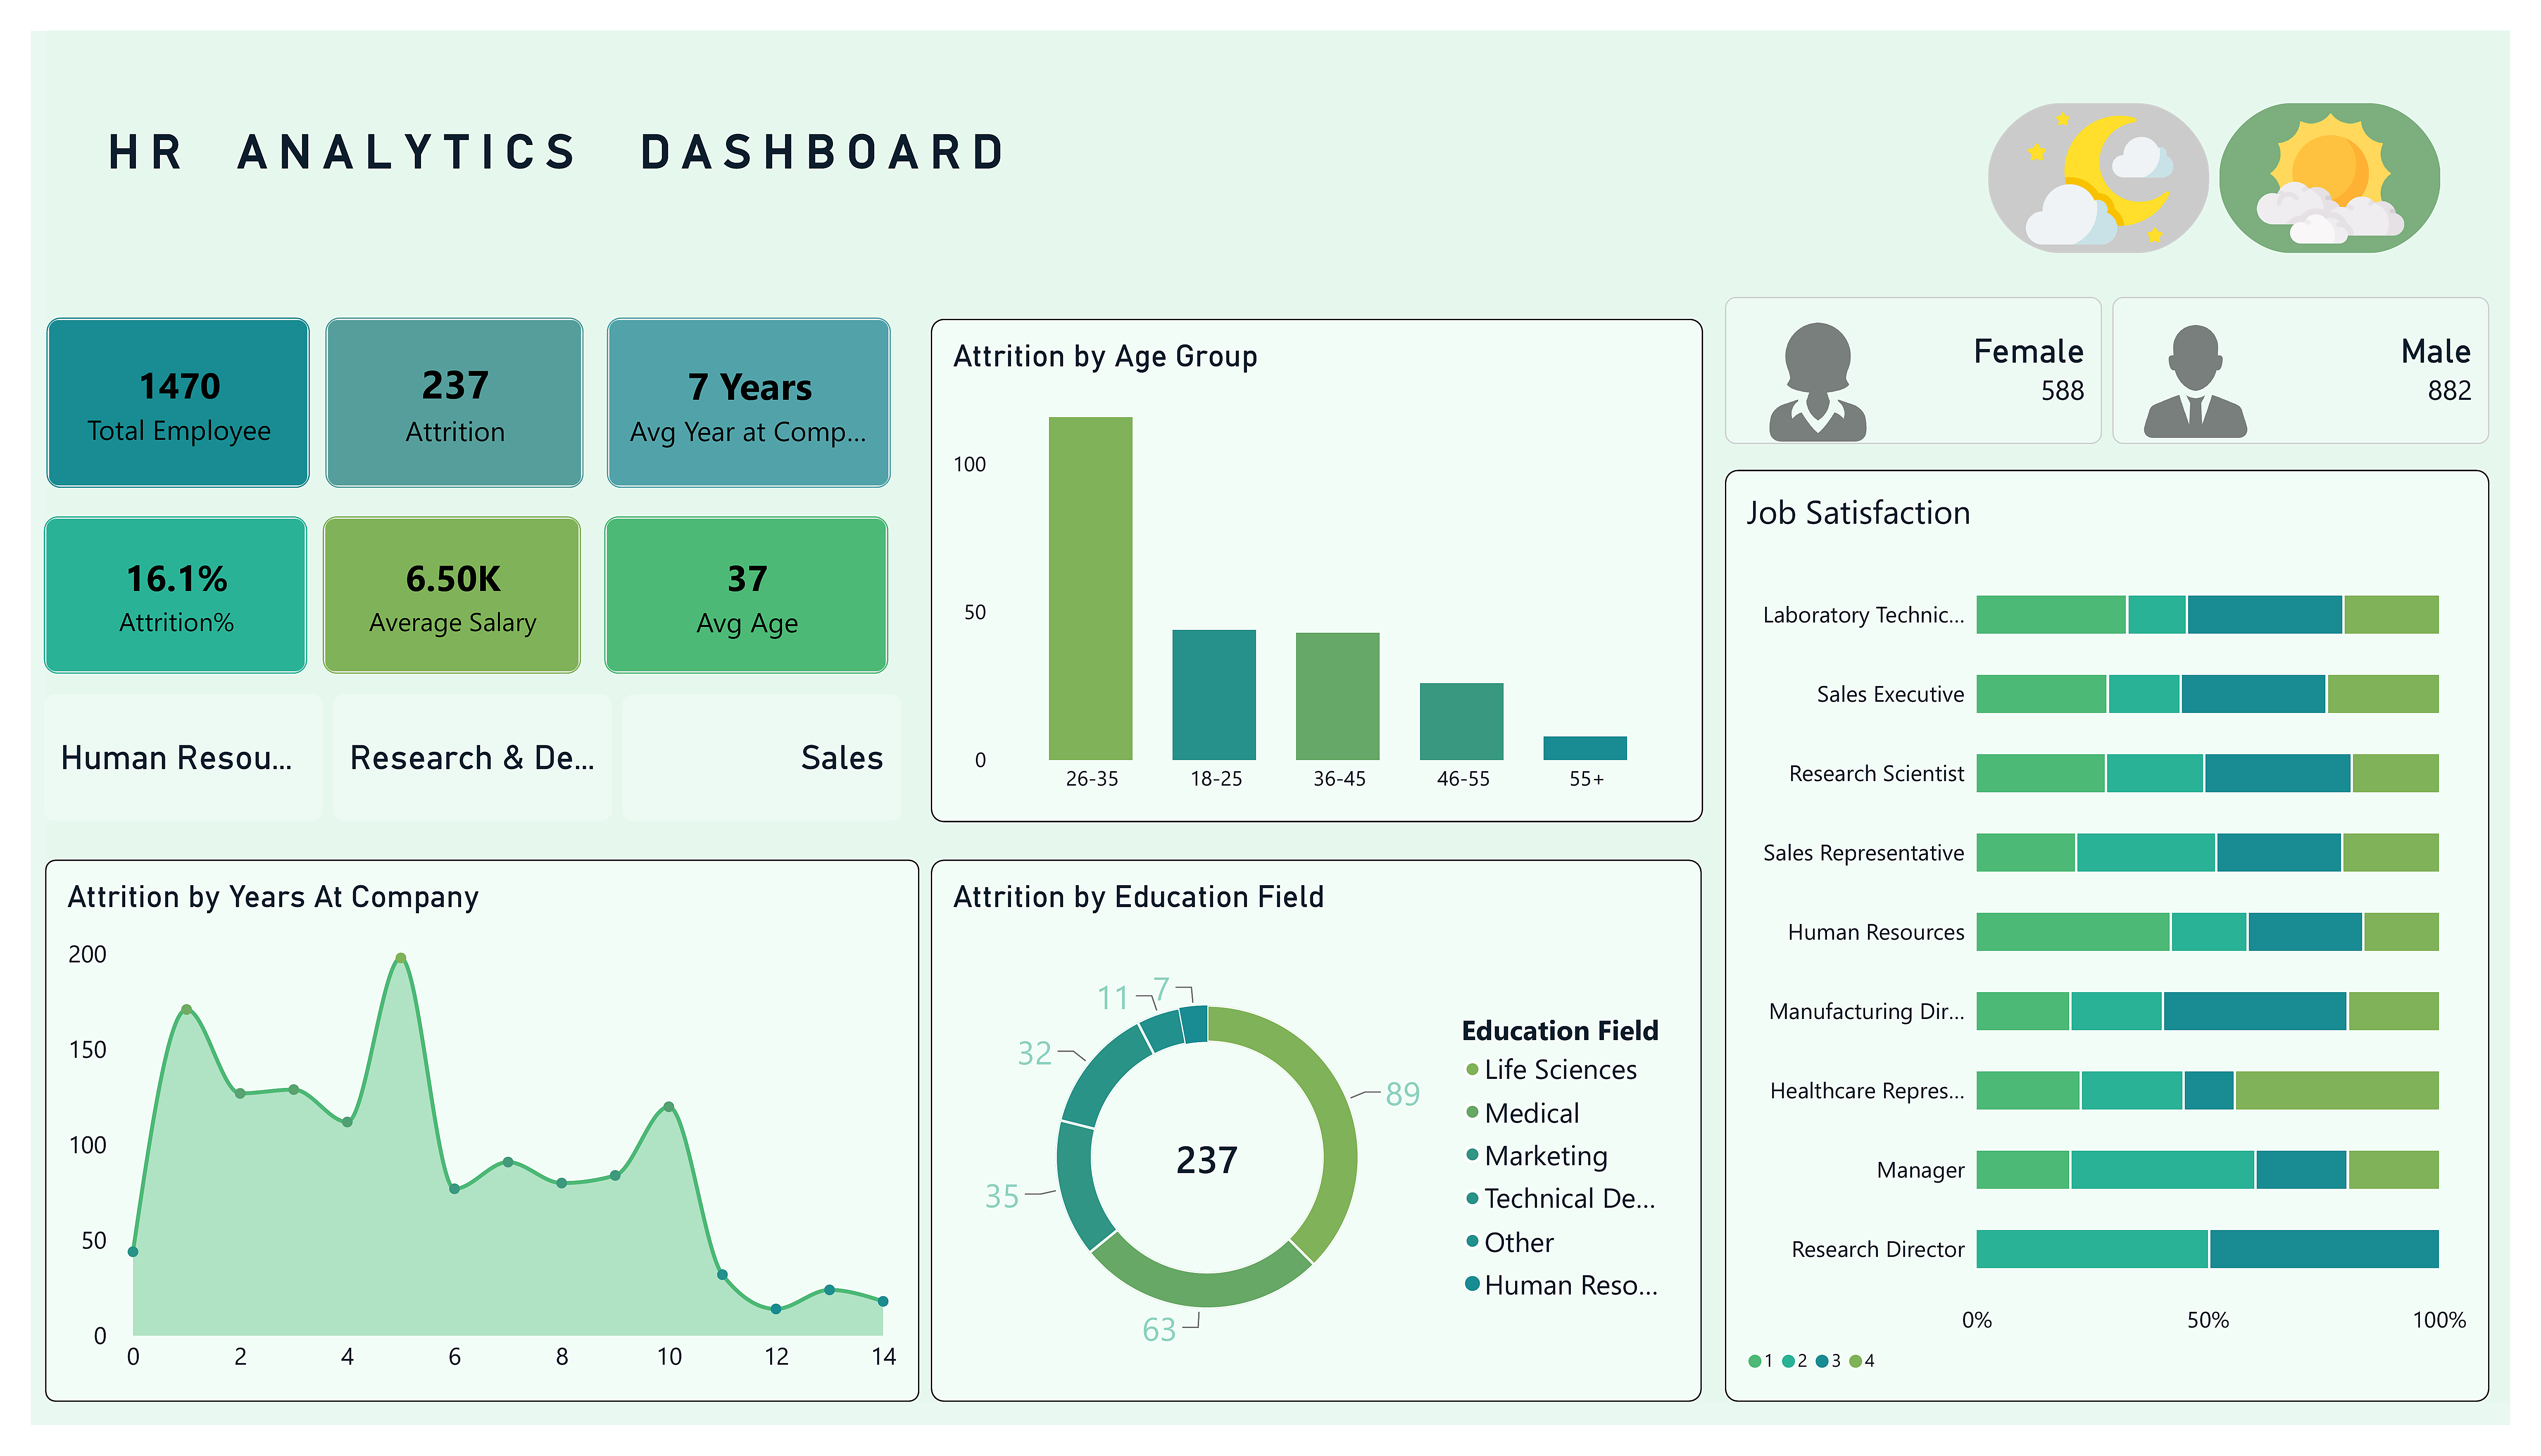

What the dashboard file says about the page in this screenshot:
{"tool":"powerbi","page":{"name":"Duplicate HR Analytics Dashboard ","canvas":[1920,1080],"ordinal":0},"visuals":[{"type":"shape","box":[12,0,1908,1062],"z":0},{"type":"advancedSlicerVisual","fields":{"Values":["Dark-Mode.Label"]},"box":[1516,56,350,116],"z":1000},{"type":"image","box":[1337.5,222.5,92.5,97.5],"z":2000},{"type":"image","box":[1632.5,222.5,87.5,97.5],"z":3000},{"type":"cardVisual","fields":{"Data":["HR_Analytics.Employee_Count"]},"box":[11.6,222,204,132],"z":4000},{"type":"cardVisual","fields":{"Data":["HR_Analytics.Employee_Attrition"]},"box":[227.6,222,200,132],"z":5000},{"type":"cardVisual","fields":{"Data":["HR_Analytics.Attrition%"]},"box":[10,376,204,122],"z":6000},{"type":"cardVisual","fields":{"Data":["HR_Analytics.Average_Salary"]},"box":[226,376,200,122],"z":7000},{"type":"cardVisual","fields":{"Data":["HR_Analytics.Avg_Age"]},"box":[444,376,220,122],"z":8000},{"type":"areaChart","title":"Attrition by Years At Company","fields":{"Category":["HR_Analytics.YearsAtCompany"],"Y":["CountNonNull(HR_Analytics.Attrition)"]},"box":[10.9,642.4,676.8,419.8],"z":9000},{"type":"donutChart","title":"Attrition by Education Field","fields":{"Category":["HR_Analytics.EducationField"],"Y":["HR_Analytics.Employee_Attrition"]},"box":[696.7,642.4,597.2,419.8],"z":10000},{"type":"clusteredColumnChart","title":"Attrition by Age Group","fields":{"Category":["HR_Analytics.AgeGroup"],"Y":["HR_Analytics.Employee_Attrition"]},"box":[696.7,222.6,598,390],"z":11000},{"type":"hundredPercentStackedBarChart","title":"Job Satisfaction","fields":{"Category":["HR_Analytics.JobRole"],"Series":["HR_Analytics.JobSatisfaction"],"Y":["HR_Analytics.Employee_Attrition"]},"box":[1312,340.2,591.8,722.1],"z":12000},{"type":"cardVisual","fields":{"Data":["HR_Analytics.Years_with_Text"]},"box":[445.6,222,220,132],"z":13000},{"type":"advancedSlicerVisual","fields":{"Values":["HR_Analytics.Gender"]},"box":[1312,206,592,114],"z":14000},{"type":"advancedSlicerVisual","fields":{"Values":["HR_Analytics.Department"]},"box":[10,514,666,98],"z":15000},{"type":"shape","box":[0,26,176,132],"z":16000,"group":"g1"},{"type":"shape","box":[124,26,332.4,132],"z":17000,"group":"g1"},{"type":"shape","box":[420,26,384,132],"z":18000,"group":"g1"},{"type":"group","id":"g1","title":"Group 1","box":[0,26,804,132],"z":18001}]}

Visuals, with their boxes on the page's 1920x1080 design canvas (x1, y1, x2, y2). These are canvas units, not pixel positions in the 2541x1456 screenshot, which may show the page scaled, cropped or inside an application window:
shape: [12, 0, 1920, 1062]
advancedSlicerVisual - Dark-Mode.Label: [1516, 56, 1866, 172]
image: [1338, 222, 1430, 320]
image: [1632, 222, 1720, 320]
cardVisual - HR_Analytics.Employee_Count: [12, 222, 216, 354]
cardVisual - HR_Analytics.Employee_Attrition: [228, 222, 428, 354]
cardVisual - HR_Analytics.Attrition%: [10, 376, 214, 498]
cardVisual - HR_Analytics.Average_Salary: [226, 376, 426, 498]
cardVisual - HR_Analytics.Avg_Age: [444, 376, 664, 498]
"Attrition by Years At Company" areaChart: [11, 642, 688, 1062]
"Attrition by Education Field" donutChart: [697, 642, 1294, 1062]
"Attrition by Age Group" clusteredColumnChart: [697, 223, 1295, 613]
"Job Satisfaction" hundredPercentStackedBarChart: [1312, 340, 1904, 1062]
cardVisual - HR_Analytics.Years_with_Text: [446, 222, 666, 354]
advancedSlicerVisual - HR_Analytics.Gender: [1312, 206, 1904, 320]
advancedSlicerVisual - HR_Analytics.Department: [10, 514, 676, 612]
shape: [0, 26, 176, 158]
shape: [124, 26, 456, 158]
shape: [420, 26, 804, 158]
"Group 1" group: [0, 26, 804, 158]
